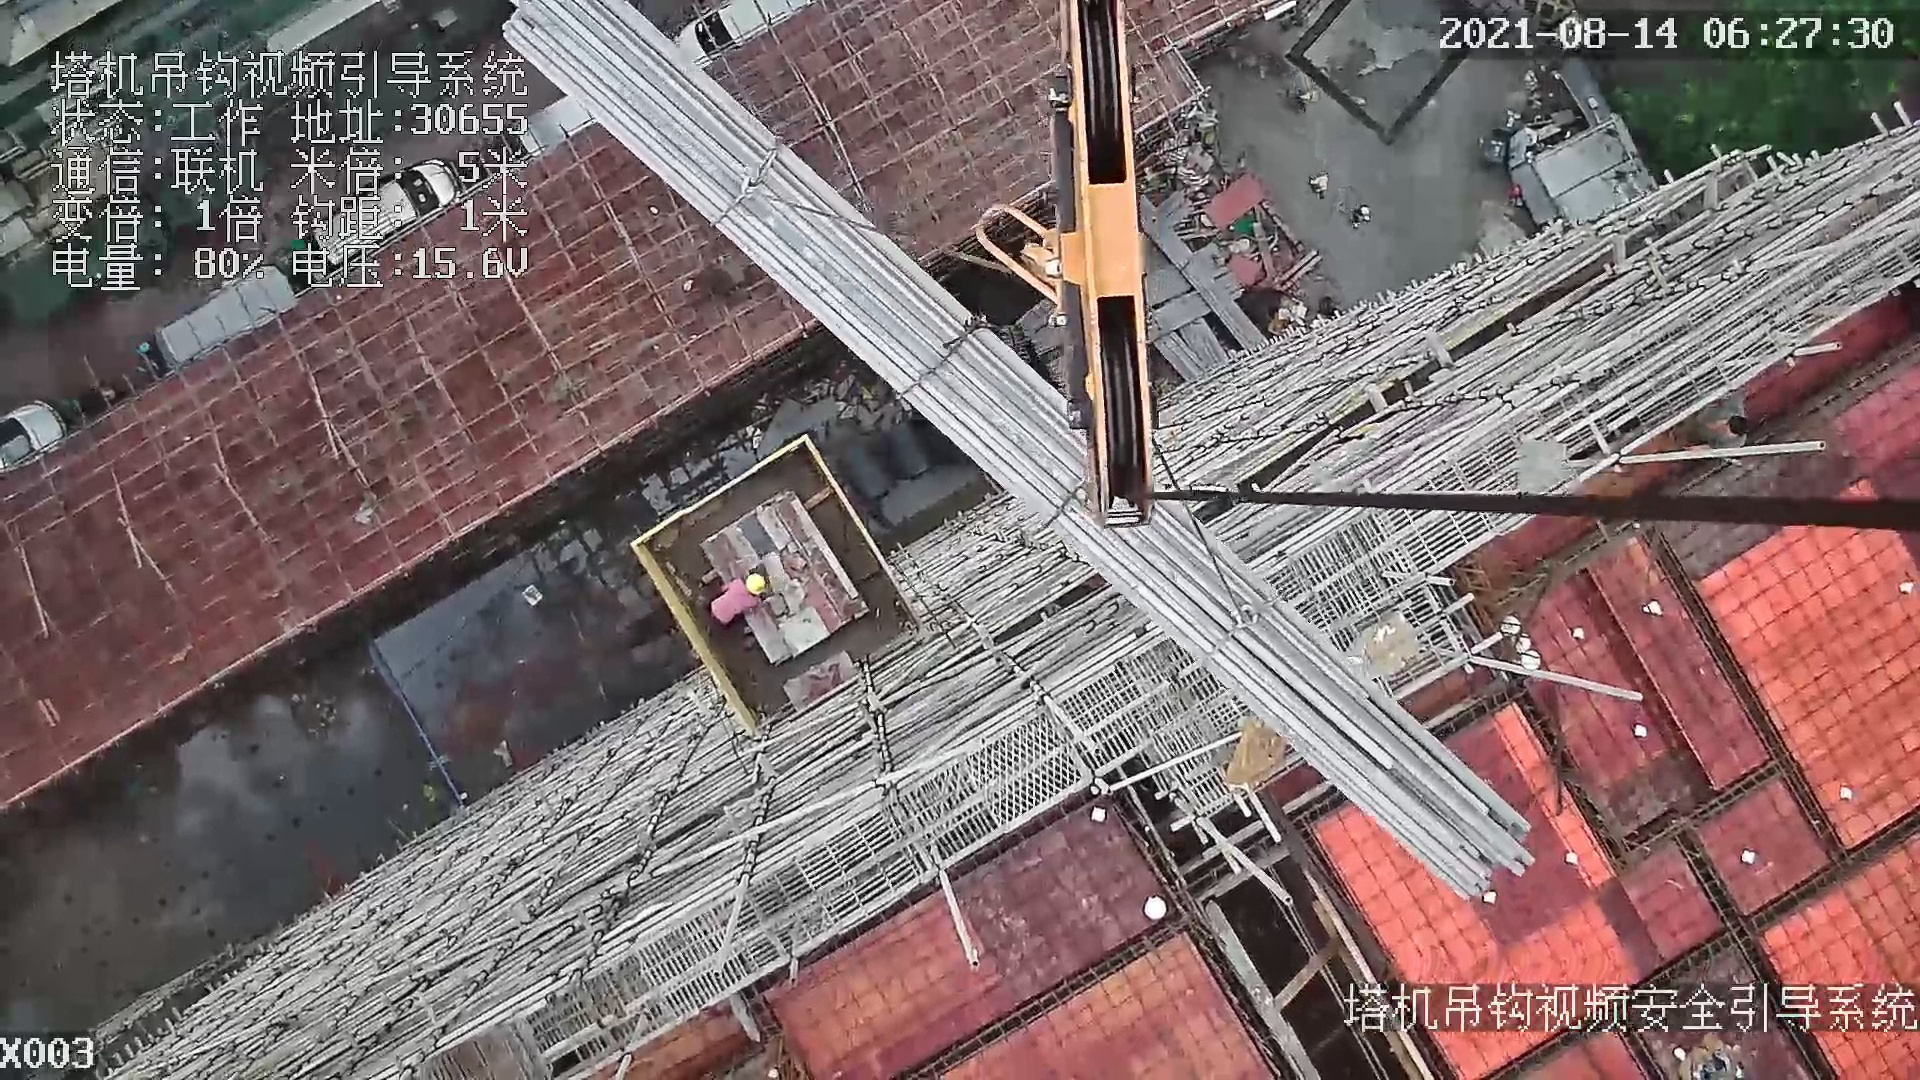helmet: (741, 572, 769, 596)
hook: (1046, 1, 1162, 534)
person: (1700, 392, 1758, 457), (707, 569, 766, 630)
